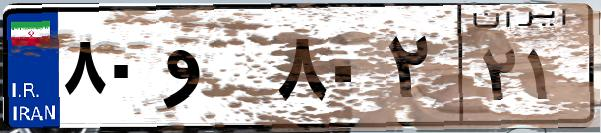0: (330, 28, 385, 110), (110, 28, 158, 98)
1: (525, 38, 570, 115)
2: (385, 28, 445, 110), (475, 38, 525, 113)
8: (270, 28, 330, 110), (57, 26, 110, 100)
و: (158, 20, 270, 120)
